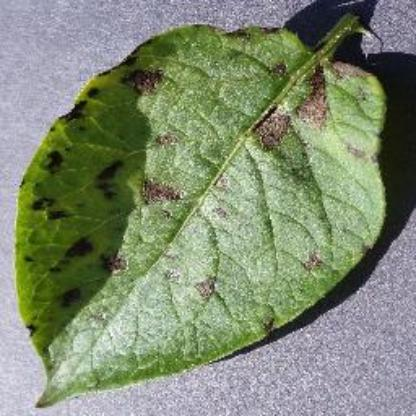Early-Blight: (16, 13, 388, 408)
